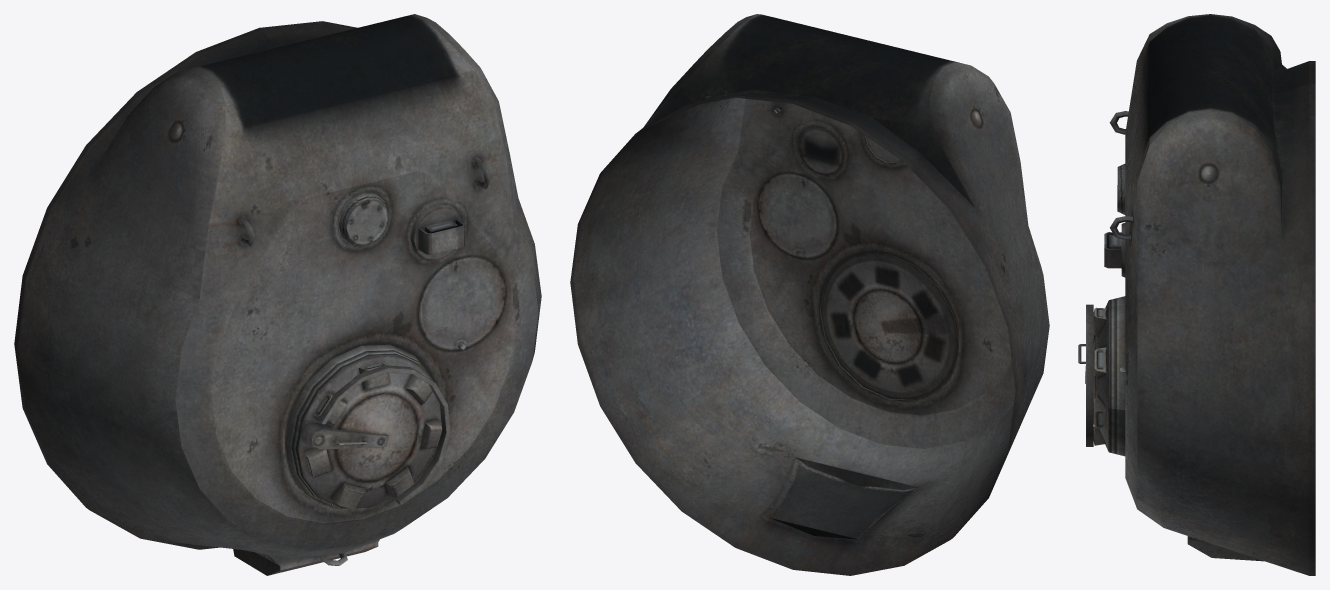
File: Turret_Lowe.obj
3 renders of one model, left to right at view 1: azimuth 30°, elevation 25°; view 2: azimuth 150°, elevation 25°; view 3: azimuth 270°, elevation 25°, orthographic. The views are drawn at different scales.
Visible parts, largest first — view 1: 3D_Object_1; view 2: 3D_Object_1; view 3: 3D_Object_1.
Boxes of the visible parts, <box> form: 3D_Object_1: <box>14,14,541,575</box>; 3D_Object_1: <box>570,14,1049,575</box>; 3D_Object_1: <box>1078,14,1315,575</box>.
Size of the model in its own units: 2.86 by 2.99 by 1.31.
1 material, 1 textured.
